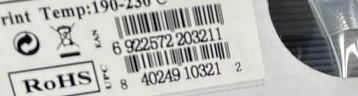1d: (122, 41, 232, 72)
